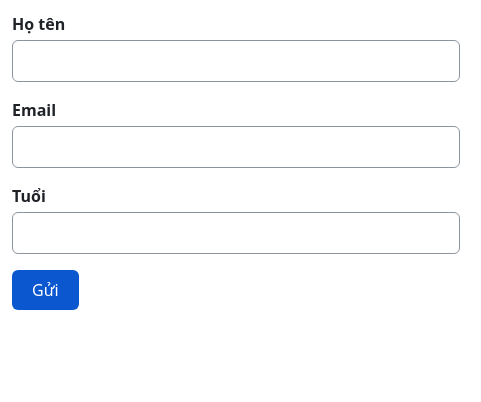
Scenario: SimpleForm › submit form trống → hiện lỗi cả 3 field, KHÔNG hiện inspector
Click the button "Gửi" at point(45, 290), box [12, 270, 79, 310]
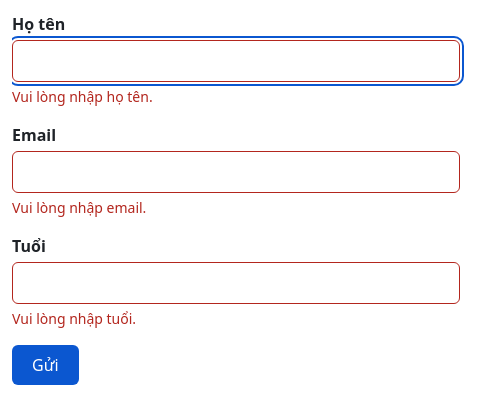
Expected: the number of messages is 3, [12, 87, 153, 106]; [12, 198, 146, 217]; [12, 309, 136, 328]
